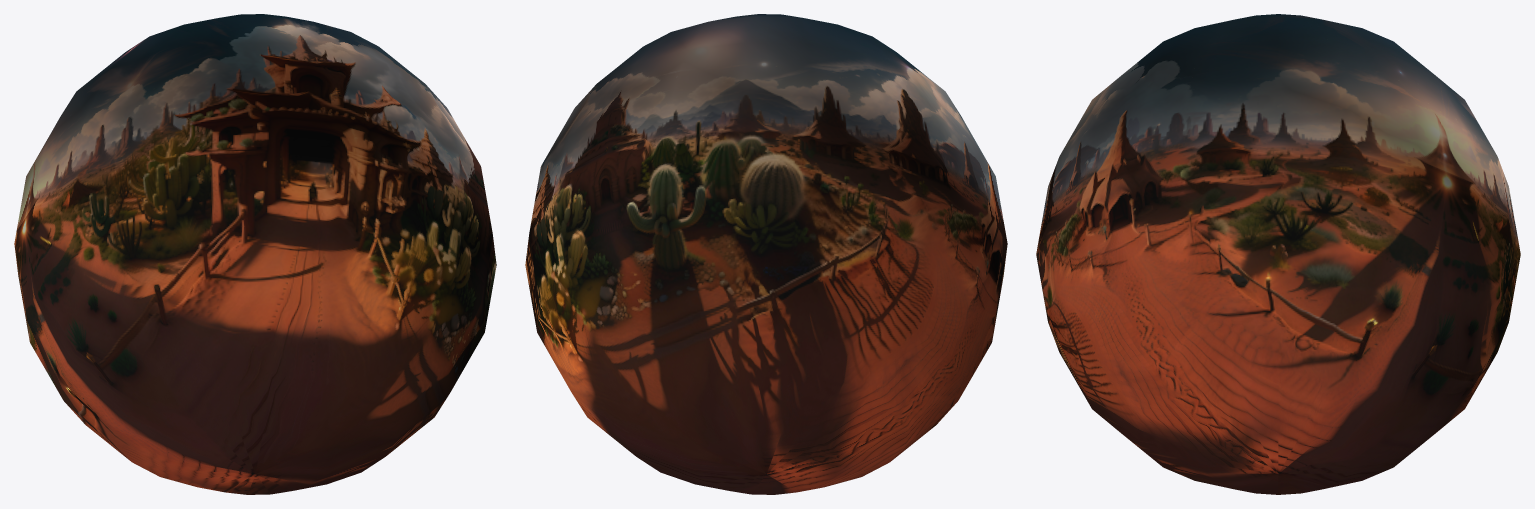
3 views of the same model, side by side, from view 1: azimuth 30°, elevation 25°; view 2: azimuth 150°, elevation 25°; view 3: azimuth 270°, elevation 25° (orthographic).
Parts seen in each view (by area): view 1: Skybox_0; view 2: Skybox_0; view 3: Skybox_0.
Boxes of the visible parts, x1,y1,x2,y2 form: Skybox_0: (14,14,496,494); Skybox_0: (525,14,1007,494); Skybox_0: (1036,14,1520,494).
Bounding box in the file's own units: 500 × 500 × 500.
Materials: 1 (1 with a texture image).
